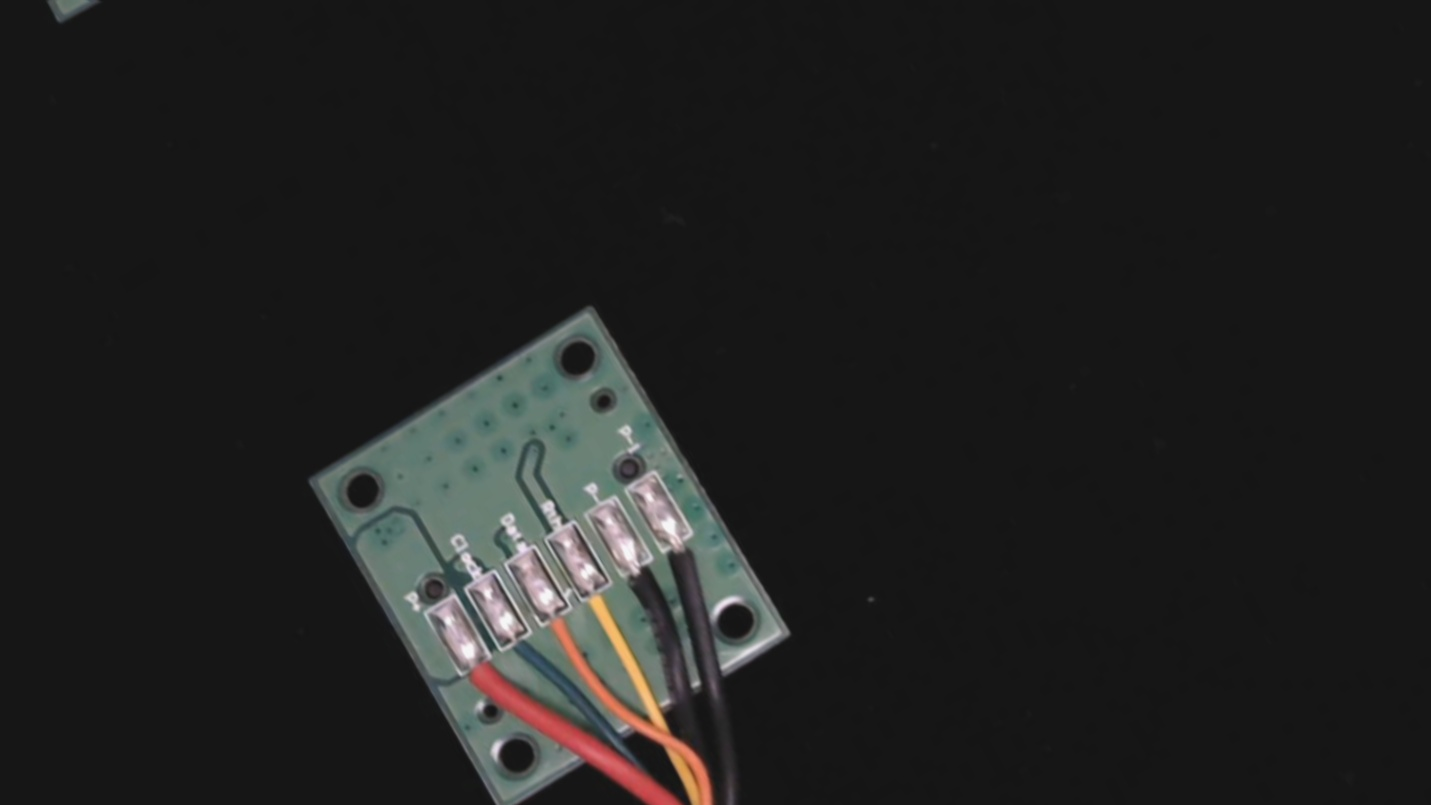Black: (607, 539, 687, 630)
Black1: (649, 519, 720, 597)
Green: (484, 609, 569, 703)
Orange: (525, 585, 609, 680)
Red: (445, 635, 530, 730)
Yellow: (566, 563, 645, 653)
